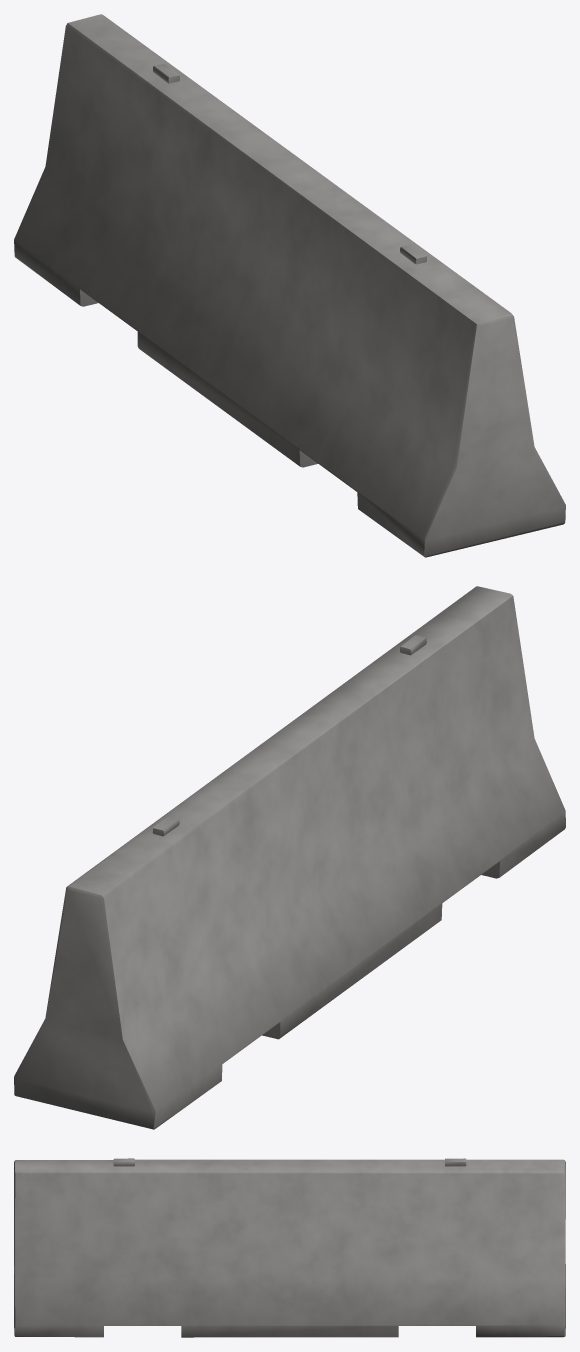
The model's file is SM_JerseyBarrier_LOD1.fbx.
The picture shows the model from 3 angles, top to bottom: view 1: azimuth 30°, elevation 25°; view 2: azimuth 150°, elevation 25°; view 3: azimuth 270°, elevation 25°; orthographic projection. The views are drawn at different scales.
Visible parts, largest first — view 1: SM_JerseyBarrier_LOD1; view 2: SM_JerseyBarrier_LOD1; view 3: SM_JerseyBarrier_LOD1.
Part boxes in pixels (x1=…): SM_JerseyBarrier_LOD1: x1=14, y1=14, x2=565, y2=557; SM_JerseyBarrier_LOD1: x1=14, y1=586, x2=565, y2=1129; SM_JerseyBarrier_LOD1: x1=14, y1=1158, x2=565, y2=1337.
Bounding box in the file's own units: 0.6 × 0.929 × 3.
Materials: 1 (1 with a texture image).
